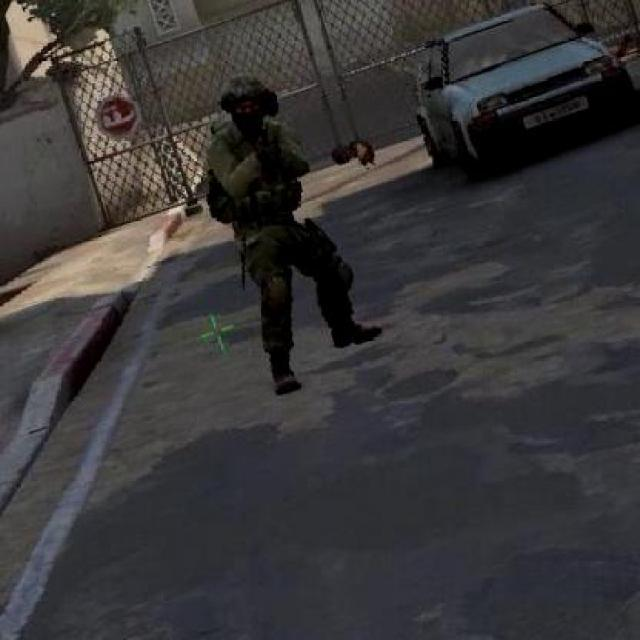CT: (192, 56, 350, 378)
CT_HEAD: (224, 68, 278, 130)
